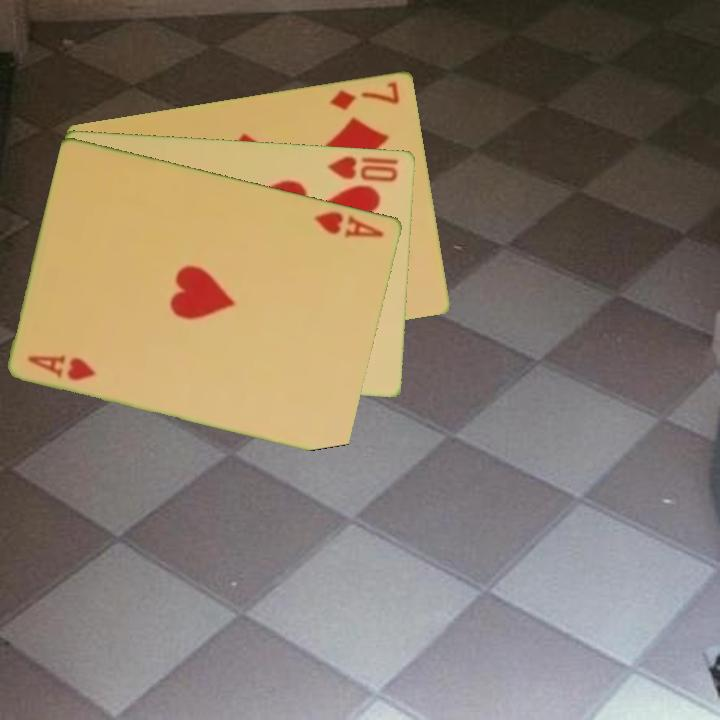10h: (325, 152, 401, 184)
7d: (327, 78, 403, 113)
Ah: (311, 207, 388, 241), (24, 350, 100, 383)
